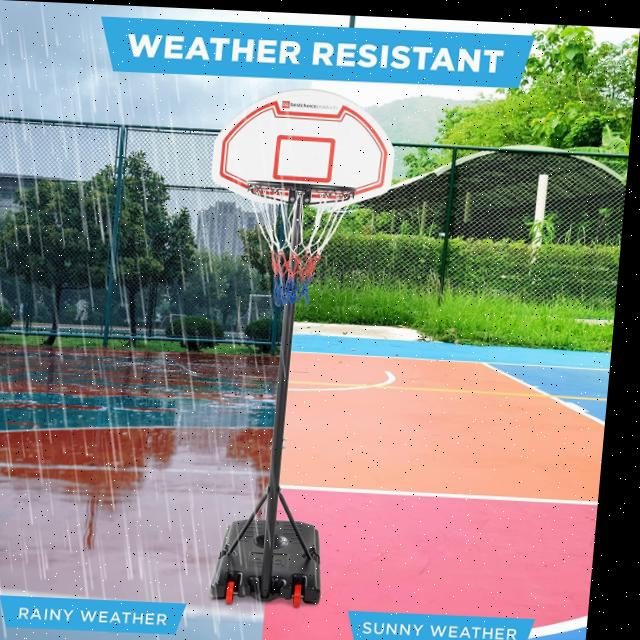hoop: (236, 180, 357, 309)
